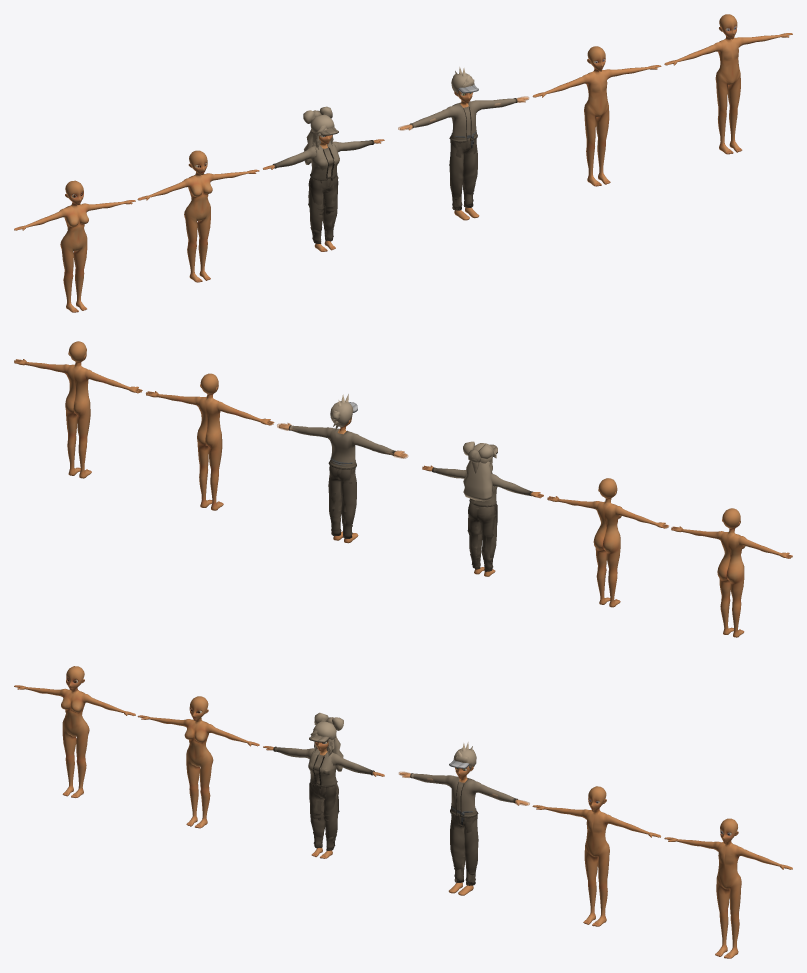
Rendered from Base_shader.fbx.
The picture shows the model from 3 angles, top to bottom: view 1: azimuth 30°, elevation 25°; view 2: azimuth 150°, elevation 25°; view 3: azimuth 330°, elevation 25°; orthographic projection.
Visible parts, largest first — view 1: Male_Body_02, Male_Body_02.001, Female_Body_02, Female_Body_02.001, Male_Cold_shirt.001, Male_Pants_extra_baggy, Female_Pants_baggy, Female_Swetshirt, Female_Pants_extra_baggy, Female_Pullover; view 2: Male_Body_02.001, Male_Body_02, Female_Body_02, Female_Body_02.001, Male_Cold_shirt.001, Male_Pants_extra_baggy, Female_Pants_baggy, Female_Hair_long_wavy, Female_Pants_extra_baggy, Female_Swetshirt; view 3: Male_Body_02, Male_Body_02.001, Female_Body_02, Female_Body_02.001, Male_Cold_shirt.001, Male_Pants_extra_baggy, Female_Swetshirt, Female_Pants_baggy, Female_Pants_extra_baggy, Female_Pullover.
Part boxes in pixels (x1,y1,x2,y2): Male_Body_02: (532,46,661,186); Male_Body_02.001: (664,14,792,154); Female_Body_02: (137,150,259,282); Female_Body_02.001: (14,180,135,312); Male_Cold_shirt.001: (409,98,517,142); Male_Pants_extra_baggy: (449,142,477,199); Female_Pants_baggy: (308,175,338,243); Female_Swetshirt: (272,140,374,180); Female_Pants_extra_baggy: (308,184,337,241); Female_Pullover: (310,142,339,180); Male_Body_02.001: (14,341,142,478); Male_Body_02: (146,373,274,510); Female_Body_02: (547,478,668,607); Female_Body_02.001: (671,508,792,637); Male_Cold_shirt.001: (288,425,395,469); Male_Pants_extra_baggy: (328,468,356,527); Female_Pants_baggy: (467,502,497,571); Female_Hair_long_wavy: (463,460,493,501); Female_Pants_extra_baggy: (468,504,496,571); Female_Swetshirt: (432,467,532,506); Male_Body_02: (532,786,660,926); Male_Body_02.001: (664,818,792,958); Female_Body_02: (137,696,259,828); Female_Body_02.001: (14,666,135,797); Male_Cold_shirt.001: (410,773,517,817); Male_Pants_extra_baggy: (450,817,478,875); Female_Swetshirt: (273,746,374,788); Female_Pants_baggy: (309,782,339,850); Female_Pants_extra_baggy: (310,788,338,847); Female_Pullover: (309,749,337,788).
Size of the model in its own units: 4721 by 850 by 227.
